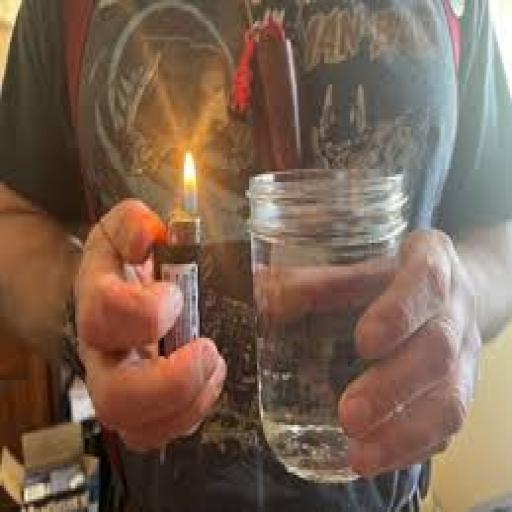fire: (172, 140, 210, 211)
